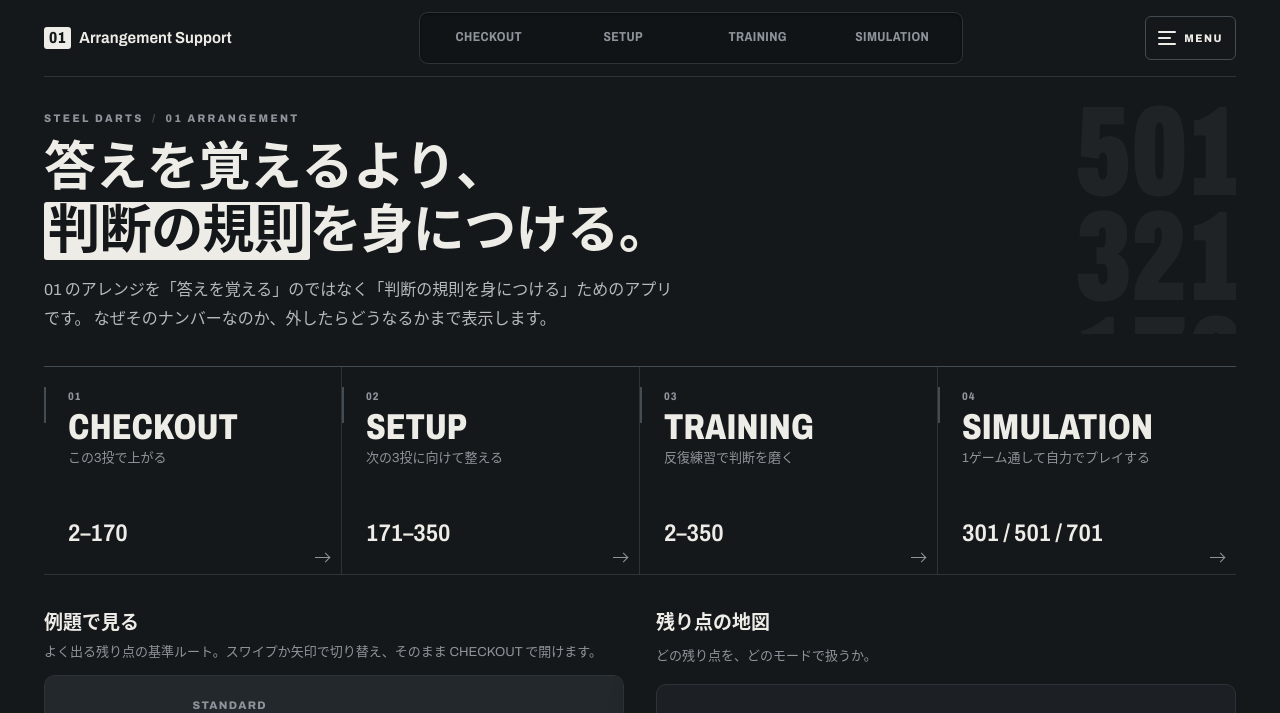
Test: 更新バナー › simulation の最中でも出るが、画面はそのまま動く
The width and height of the screenshot is (1280, 713).
Click the button with test id "nav-simulation".
click(892, 38)  # box [826, 16, 958, 60]
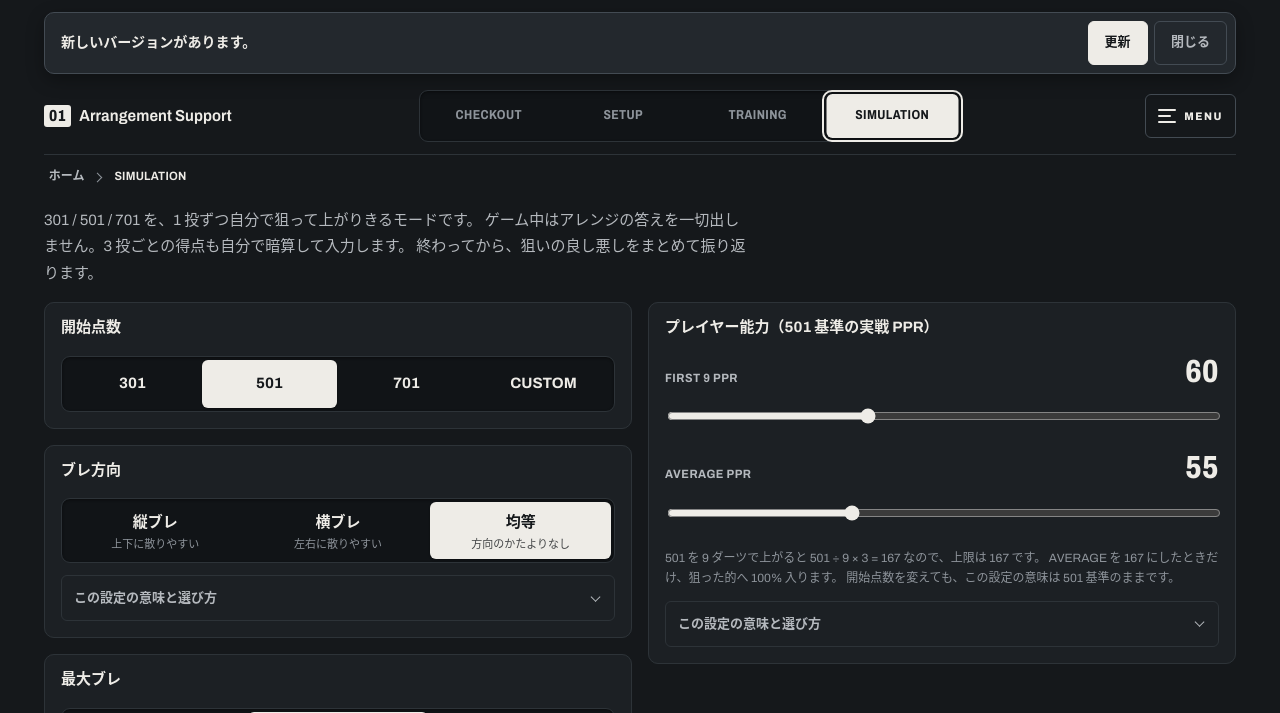
Expected: the message "新しいバージョンがあります。 更新 閉じる" is shown, [44, 12, 1236, 74]
